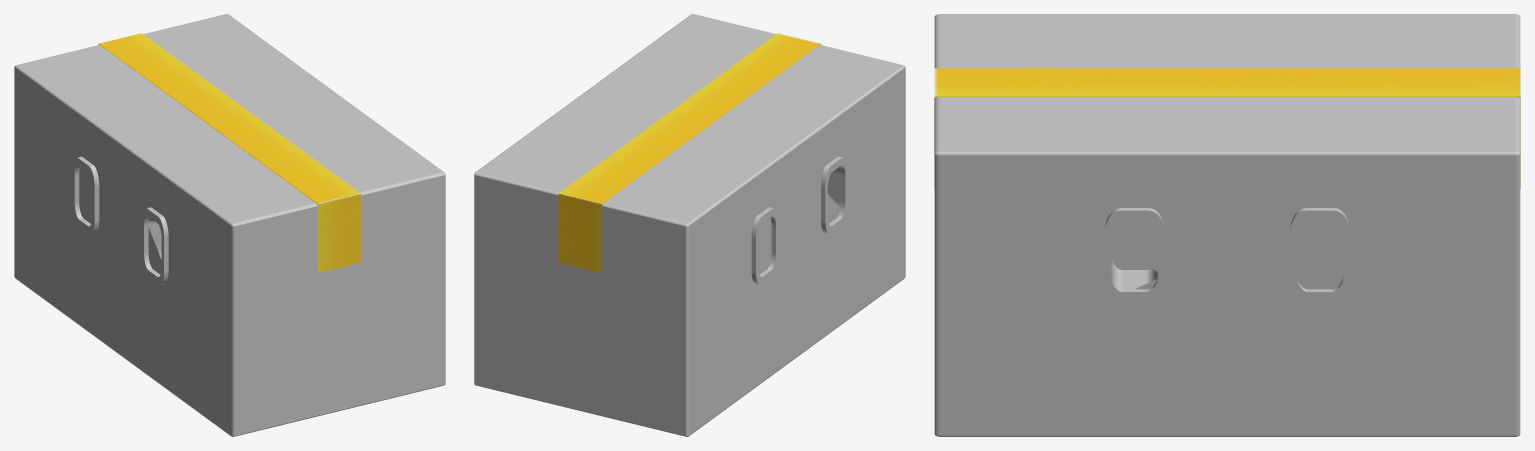
Rendered from Package.fbx.
3 renders of one model, left to right at view 1: azimuth 30°, elevation 25°; view 2: azimuth 150°, elevation 25°; view 3: azimuth 270°, elevation 25°, orthographic. The views are drawn at different scales.
Parts seen in each view (by area): view 1: Package, Tape, Package_FrontLogo, HandlePackage_1, HandlePackage_4; view 2: Package, Tape, Package_BackLogo, HandlePackage_1, HandlePackage_4; view 3: Package, Tape, HandlePackage_2, HandlePackage_3.
Boxes of the visible parts, x1=… form: Package: x1=14, y1=14, x2=445, y2=436; Tape: x1=98, y1=33, x2=361, y2=272; Package_FrontLogo: x1=298, y1=285, x2=380, y2=390; HandlePackage_1: x1=141, y1=207, x2=168, y2=284; HandlePackage_4: x1=72, y1=156, x2=99, y2=234; Package: x1=474, y1=14, x2=905, y2=436; Tape: x1=558, y1=33, x2=821, y2=272; Package_BackLogo: x1=539, y1=285, x2=621, y2=390; HandlePackage_1: x1=821, y1=156, x2=847, y2=234; HandlePackage_4: x1=751, y1=207, x2=778, y2=284; Package: x1=934, y1=14, x2=1520, y2=436; Tape: x1=934, y1=68, x2=1520, y2=188; HandlePackage_2: x1=1104, y1=208, x2=1164, y2=301; HandlePackage_3: x1=1290, y1=208, x2=1349, y2=301.
Bounding box in the file's own units: 19.91 × 18.21 × 33.9.
